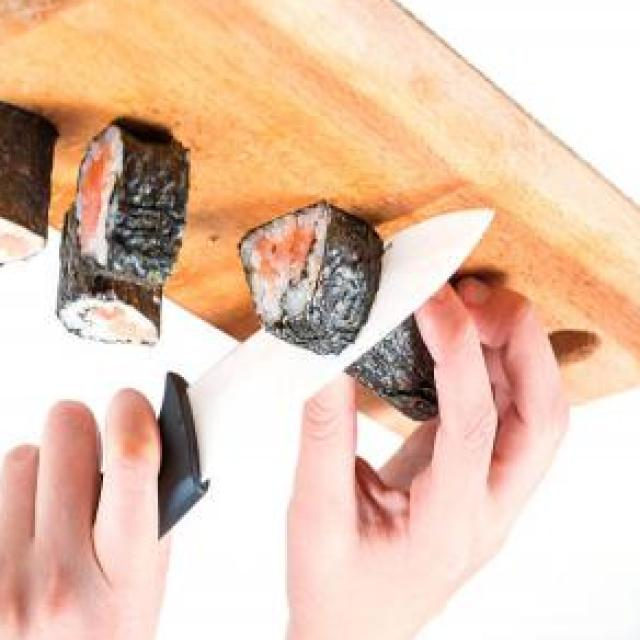knife: (103, 201, 496, 578)
